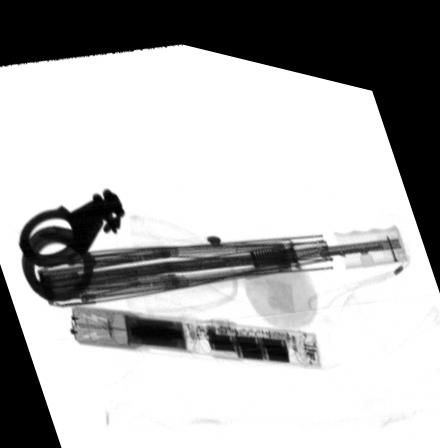Baton: (68, 299, 324, 354)
HandCuffs: (16, 181, 126, 300)
